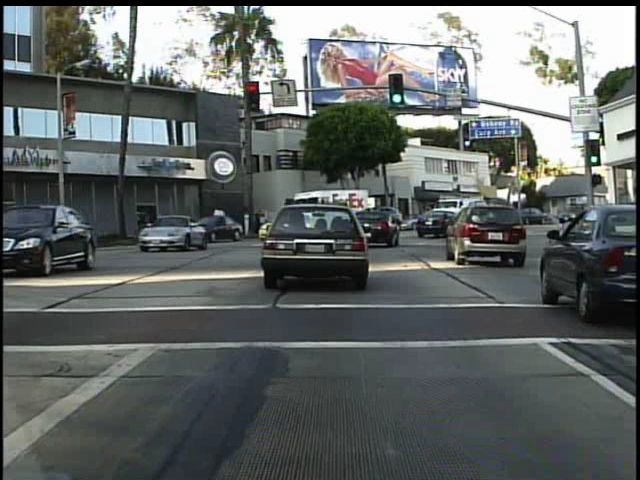person: (253, 206, 265, 234)
